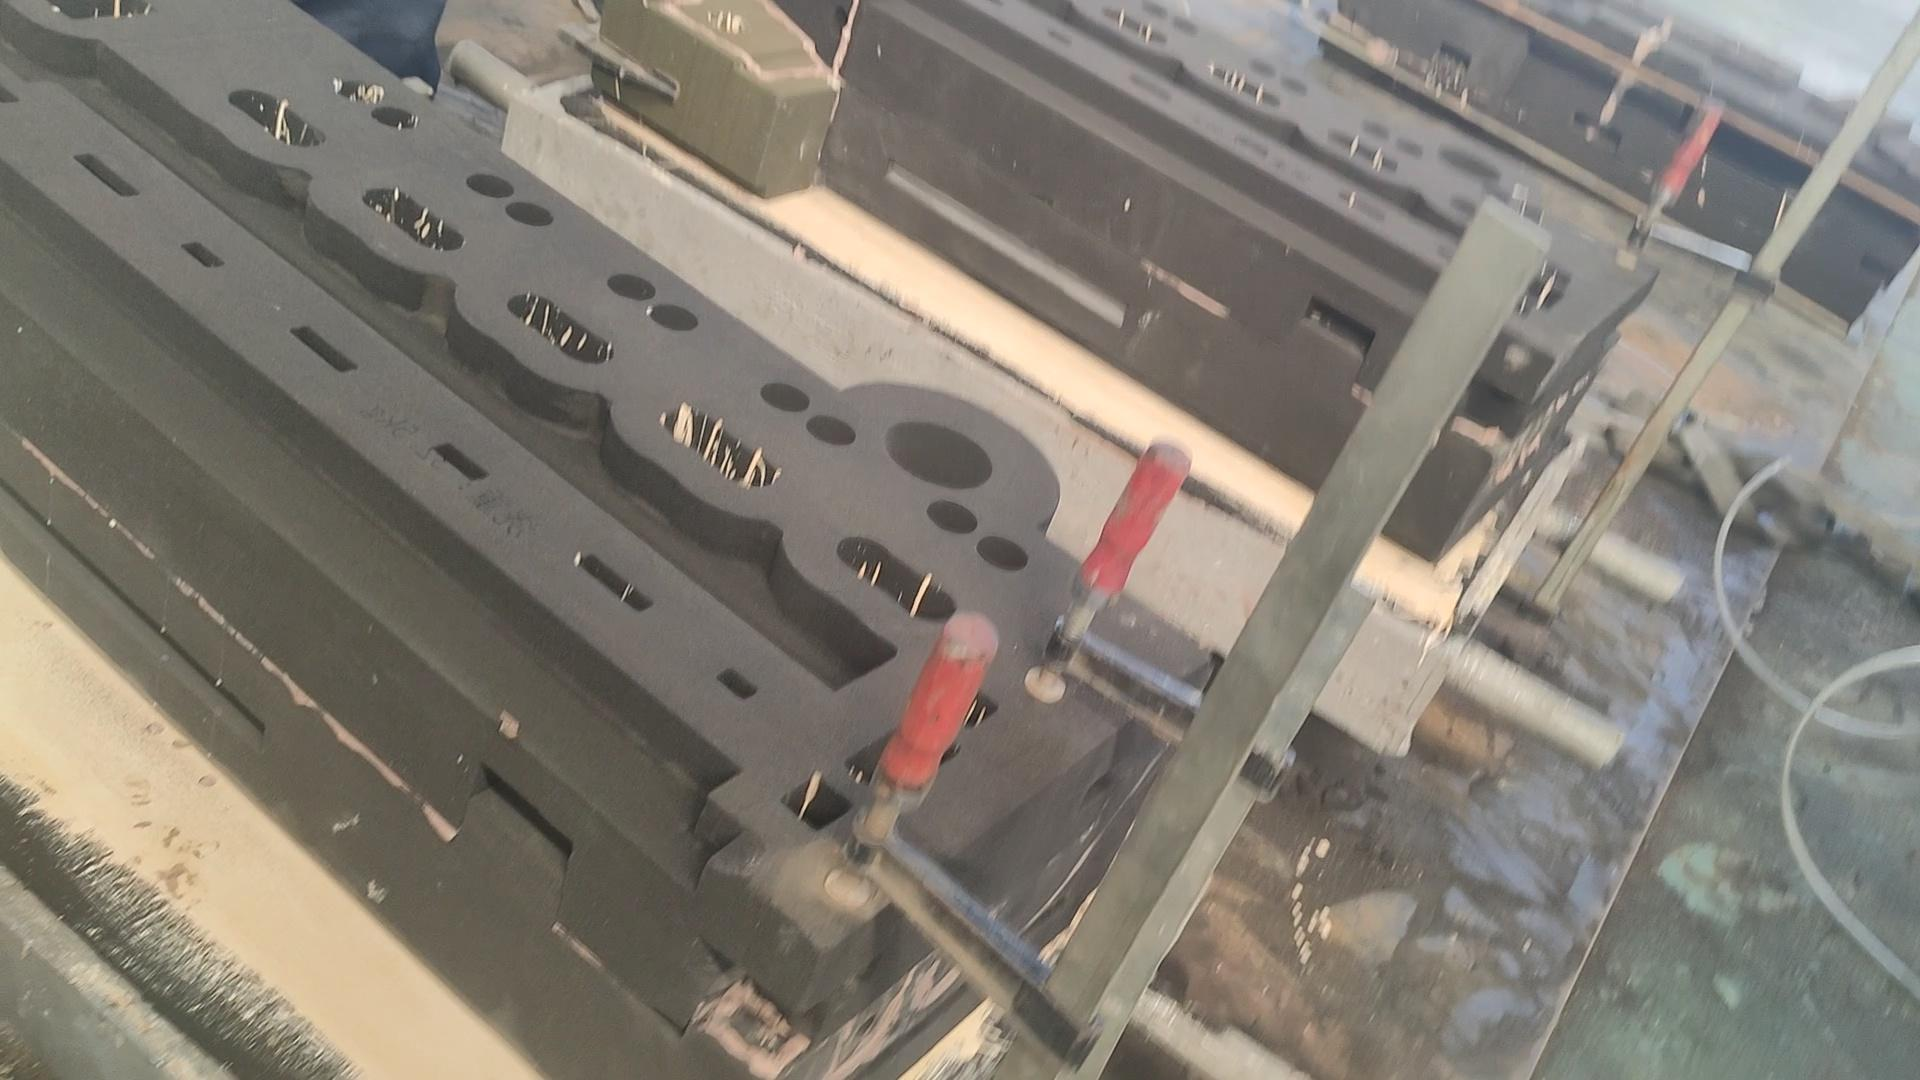pouring hole: (885, 419, 993, 491), (1439, 145, 1502, 182)
